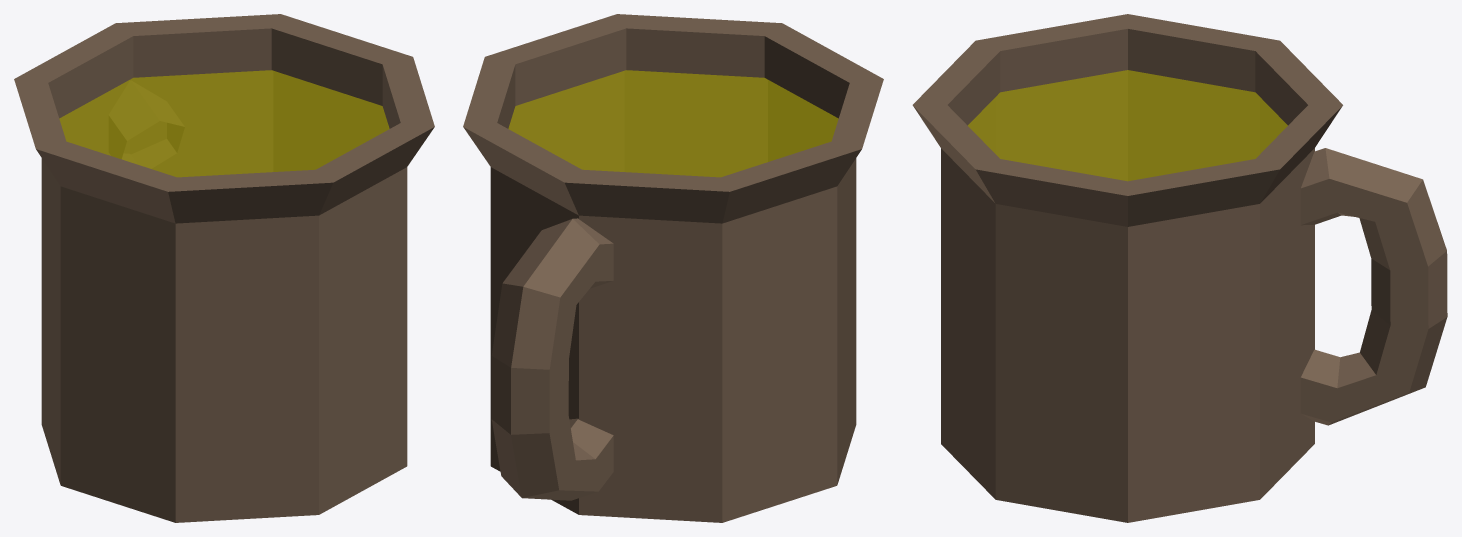
Rendered from SM_Chope.fbx.
3 views of the same model, side by side, from view 1: azimuth 30°, elevation 25°; view 2: azimuth 150°, elevation 25°; view 3: azimuth 270°, elevation 25° (orthographic).
Parts seen in each view (by area): view 1: Grog; view 2: Grog; view 3: Grog.
Boxes of the visible parts, left/top/right/bottom form: Grog: left=14, top=14, right=434, bottom=522; Grog: left=463, top=14, right=883, bottom=522; Grog: left=912, top=14, right=1447, bottom=522.
Size of the model in its own units: 1.19 by 1.04 by 1.48.
